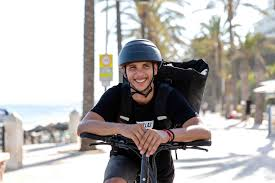helmet: (118, 39, 163, 91)
